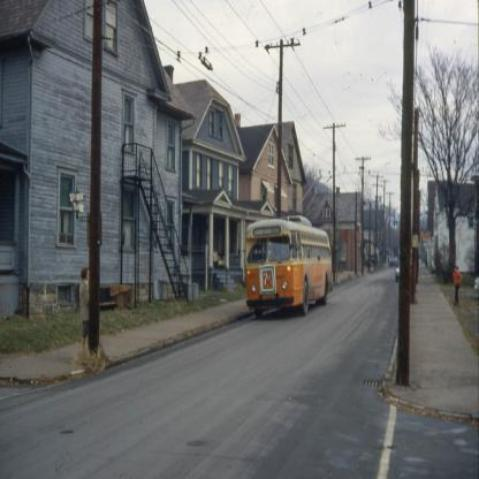bus: (206, 201, 425, 349)
